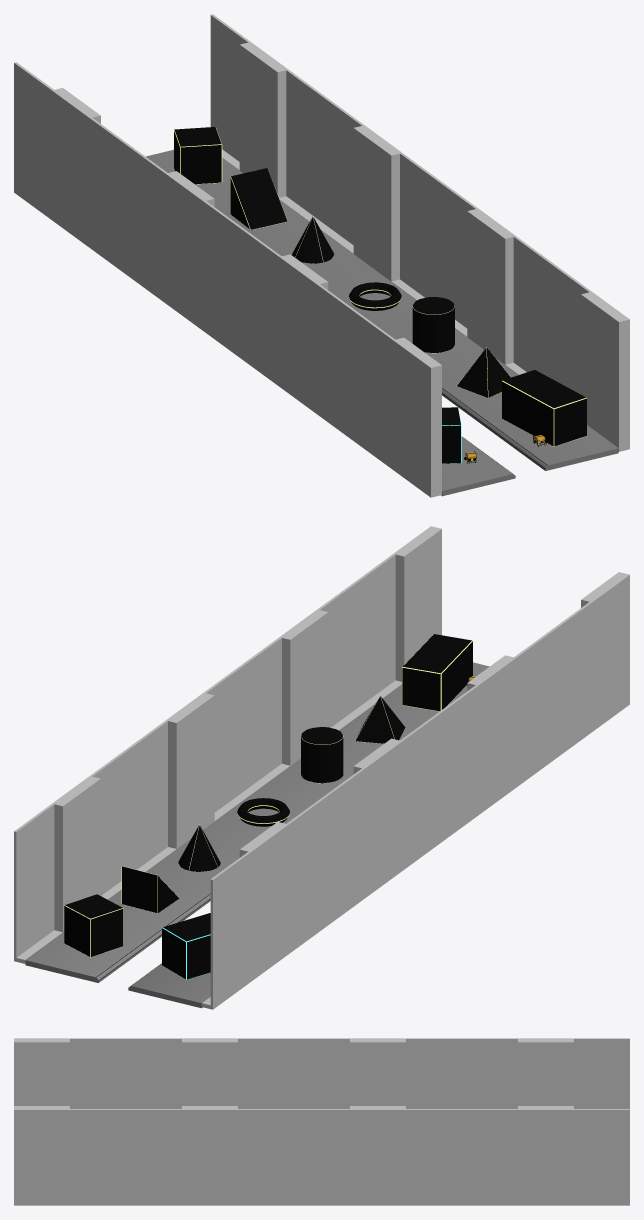
Rendered from Background-Model-01.fbx.
3 views of the same model, one above another, from view 1: azimuth 30°, elevation 25°; view 2: azimuth 150°, elevation 25°; view 3: azimuth 270°, elevation 25° (orthographic). The views are drawn at different scales.
Parts seen in each view (by area): view 1: Background Model 1; view 2: Background Model 1; view 3: Background Model 1.
Boxes of the visible parts, <box> form: Background Model 1: <box>14,14,629,497</box>; Background Model 1: <box>14,526,629,1009</box>; Background Model 1: <box>14,1038,629,1205</box>.
Size of the model in its own units: 162 by 588 by 102.
